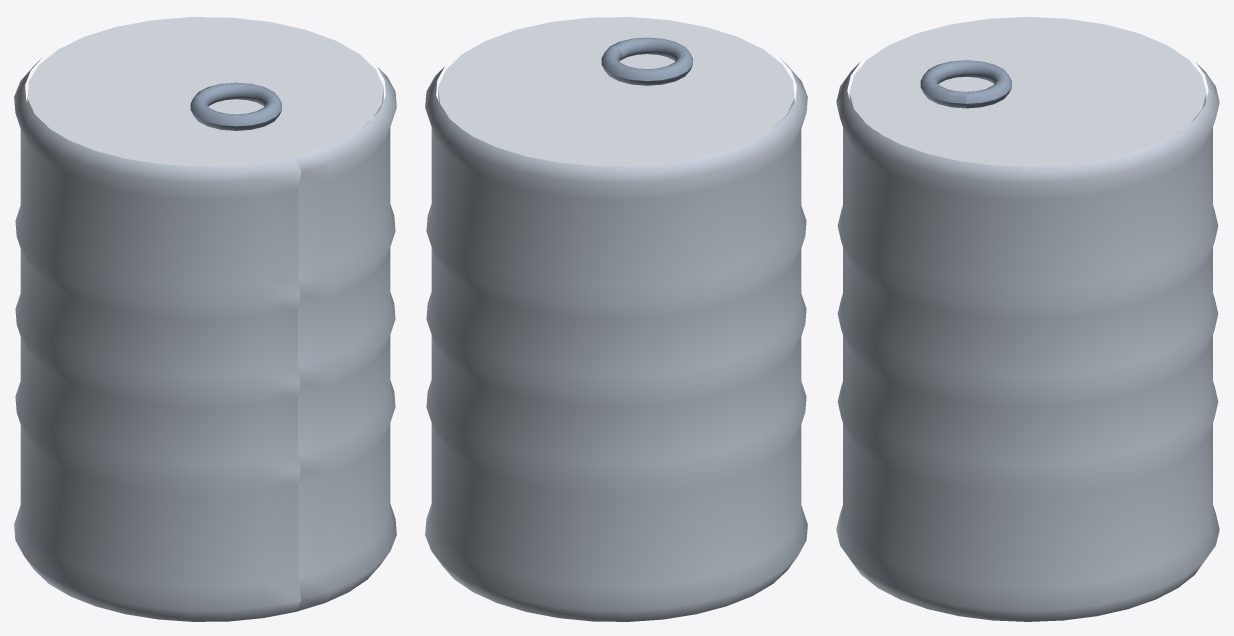
File: canned-food.glb
3 views of the same model, side by side, from view 1: azimuth 30°, elevation 25°; view 2: azimuth 150°, elevation 25°; view 3: azimuth 270°, elevation 25° (orthographic).
Visible parts, largest first — view 1: Tin_Can, Tin_Lid, Ring_Pull; view 2: Tin_Can, Tin_Lid, Ring_Pull; view 3: Tin_Can, Tin_Lid, Ring_Pull.
Part boxes in pixels (box(x1,y1,x2,y2)): Tin_Can: box(14, 58, 396, 621); Tin_Lid: box(27, 17, 383, 166); Ring_Pull: box(190, 82, 281, 130); Tin_Can: box(425, 58, 807, 621); Tin_Lid: box(438, 17, 794, 166); Ring_Pull: box(601, 37, 692, 85); Tin_Can: box(836, 62, 1219, 621); Tin_Lid: box(849, 17, 1206, 166); Ring_Pull: box(920, 60, 1011, 108).
Bounding box in the file's own units: 0.087 × 0.1175 × 0.087.
